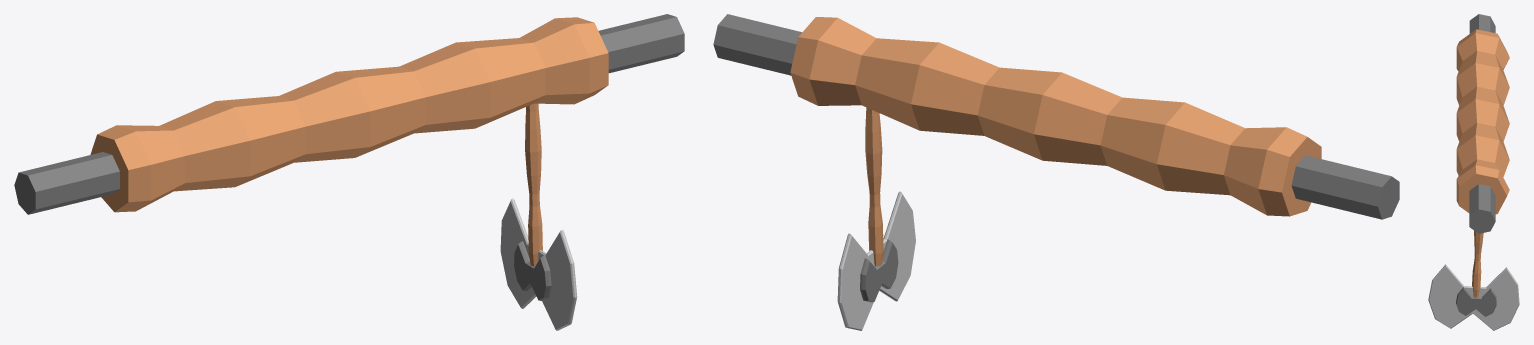
The model's file is axe_killer_rotator.fbx.
The picture shows the model from 3 angles, left to right: view 1: azimuth 30°, elevation 25°; view 2: azimuth 150°, elevation 25°; view 3: azimuth 270°, elevation 25°; orthographic projection. The views are drawn at different scales.
Visible parts, largest first — view 1: axe_killer_rotator; view 2: axe_killer_rotator; view 3: axe_killer_rotator.
Boxes of the visible parts, box(x1,y1,x2,y2) form: axe_killer_rotator: box(14, 14, 684, 330); axe_killer_rotator: box(713, 14, 1399, 330); axe_killer_rotator: box(1428, 14, 1519, 330).
Size of the model in its own units: 311 by 131 by 61.44.
